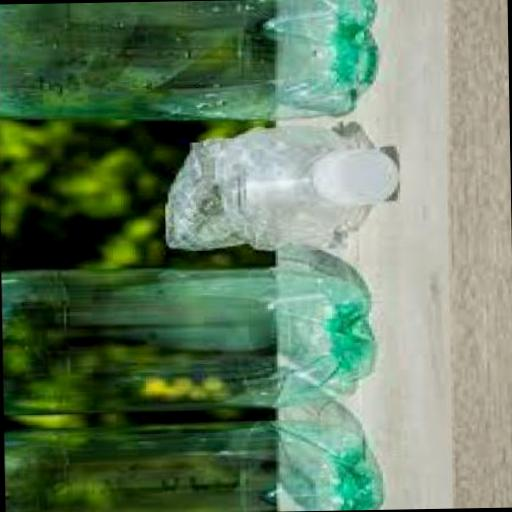plastic: (2, 262, 370, 412), (0, 0, 375, 125), (4, 420, 373, 512), (158, 122, 394, 254), (309, 144, 398, 204)
